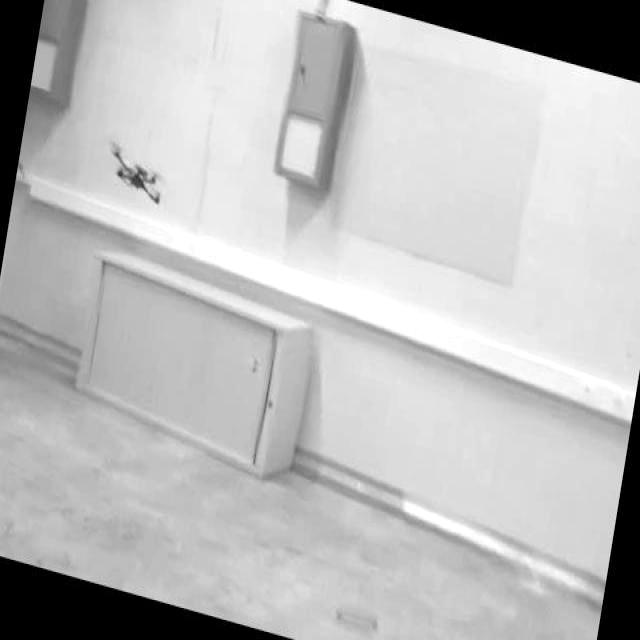drone: (93, 129, 175, 208)
